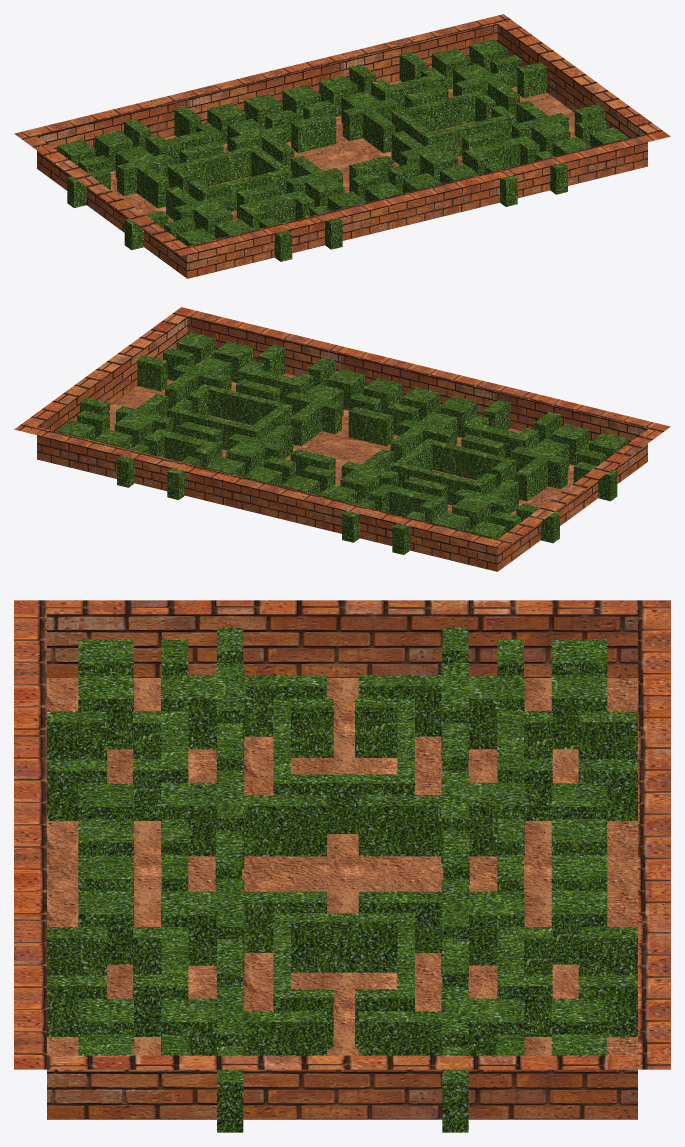
Rendered from Laberinto.fbx.
3 views of the same model, one above another, from view 1: azimuth 30°, elevation 25°; view 2: azimuth 150°, elevation 25°; view 3: azimuth 270°, elevation 25° (orthographic). The views are drawn at different scales.
Parts seen in each view (by area): view 1: pCube23; view 2: pCube23; view 3: pCube23.
Part boxes in pixels (x1,y1,x2,y2): pCube23: [14, 14, 670, 278]; pCube23: [14, 307, 670, 571]; pCube23: [14, 600, 670, 1132].
Bounding box in the file's own units: 5592 × 355 × 3309.
3 materials, 3 textured.
